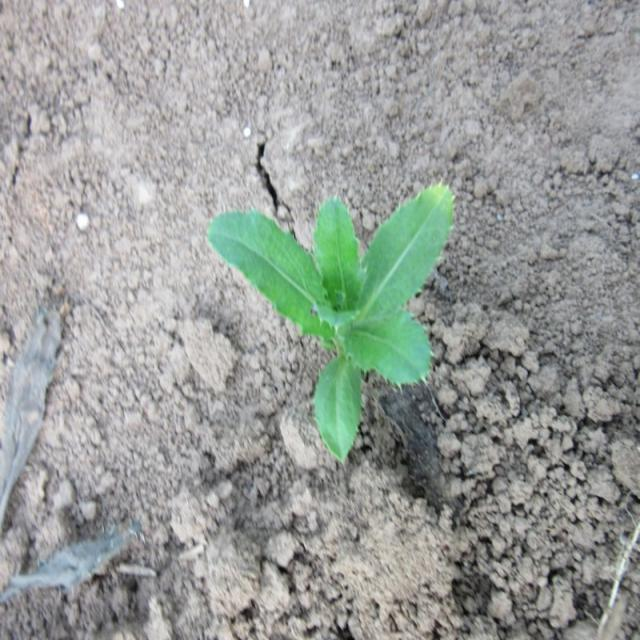cs: (204, 180, 454, 463)
